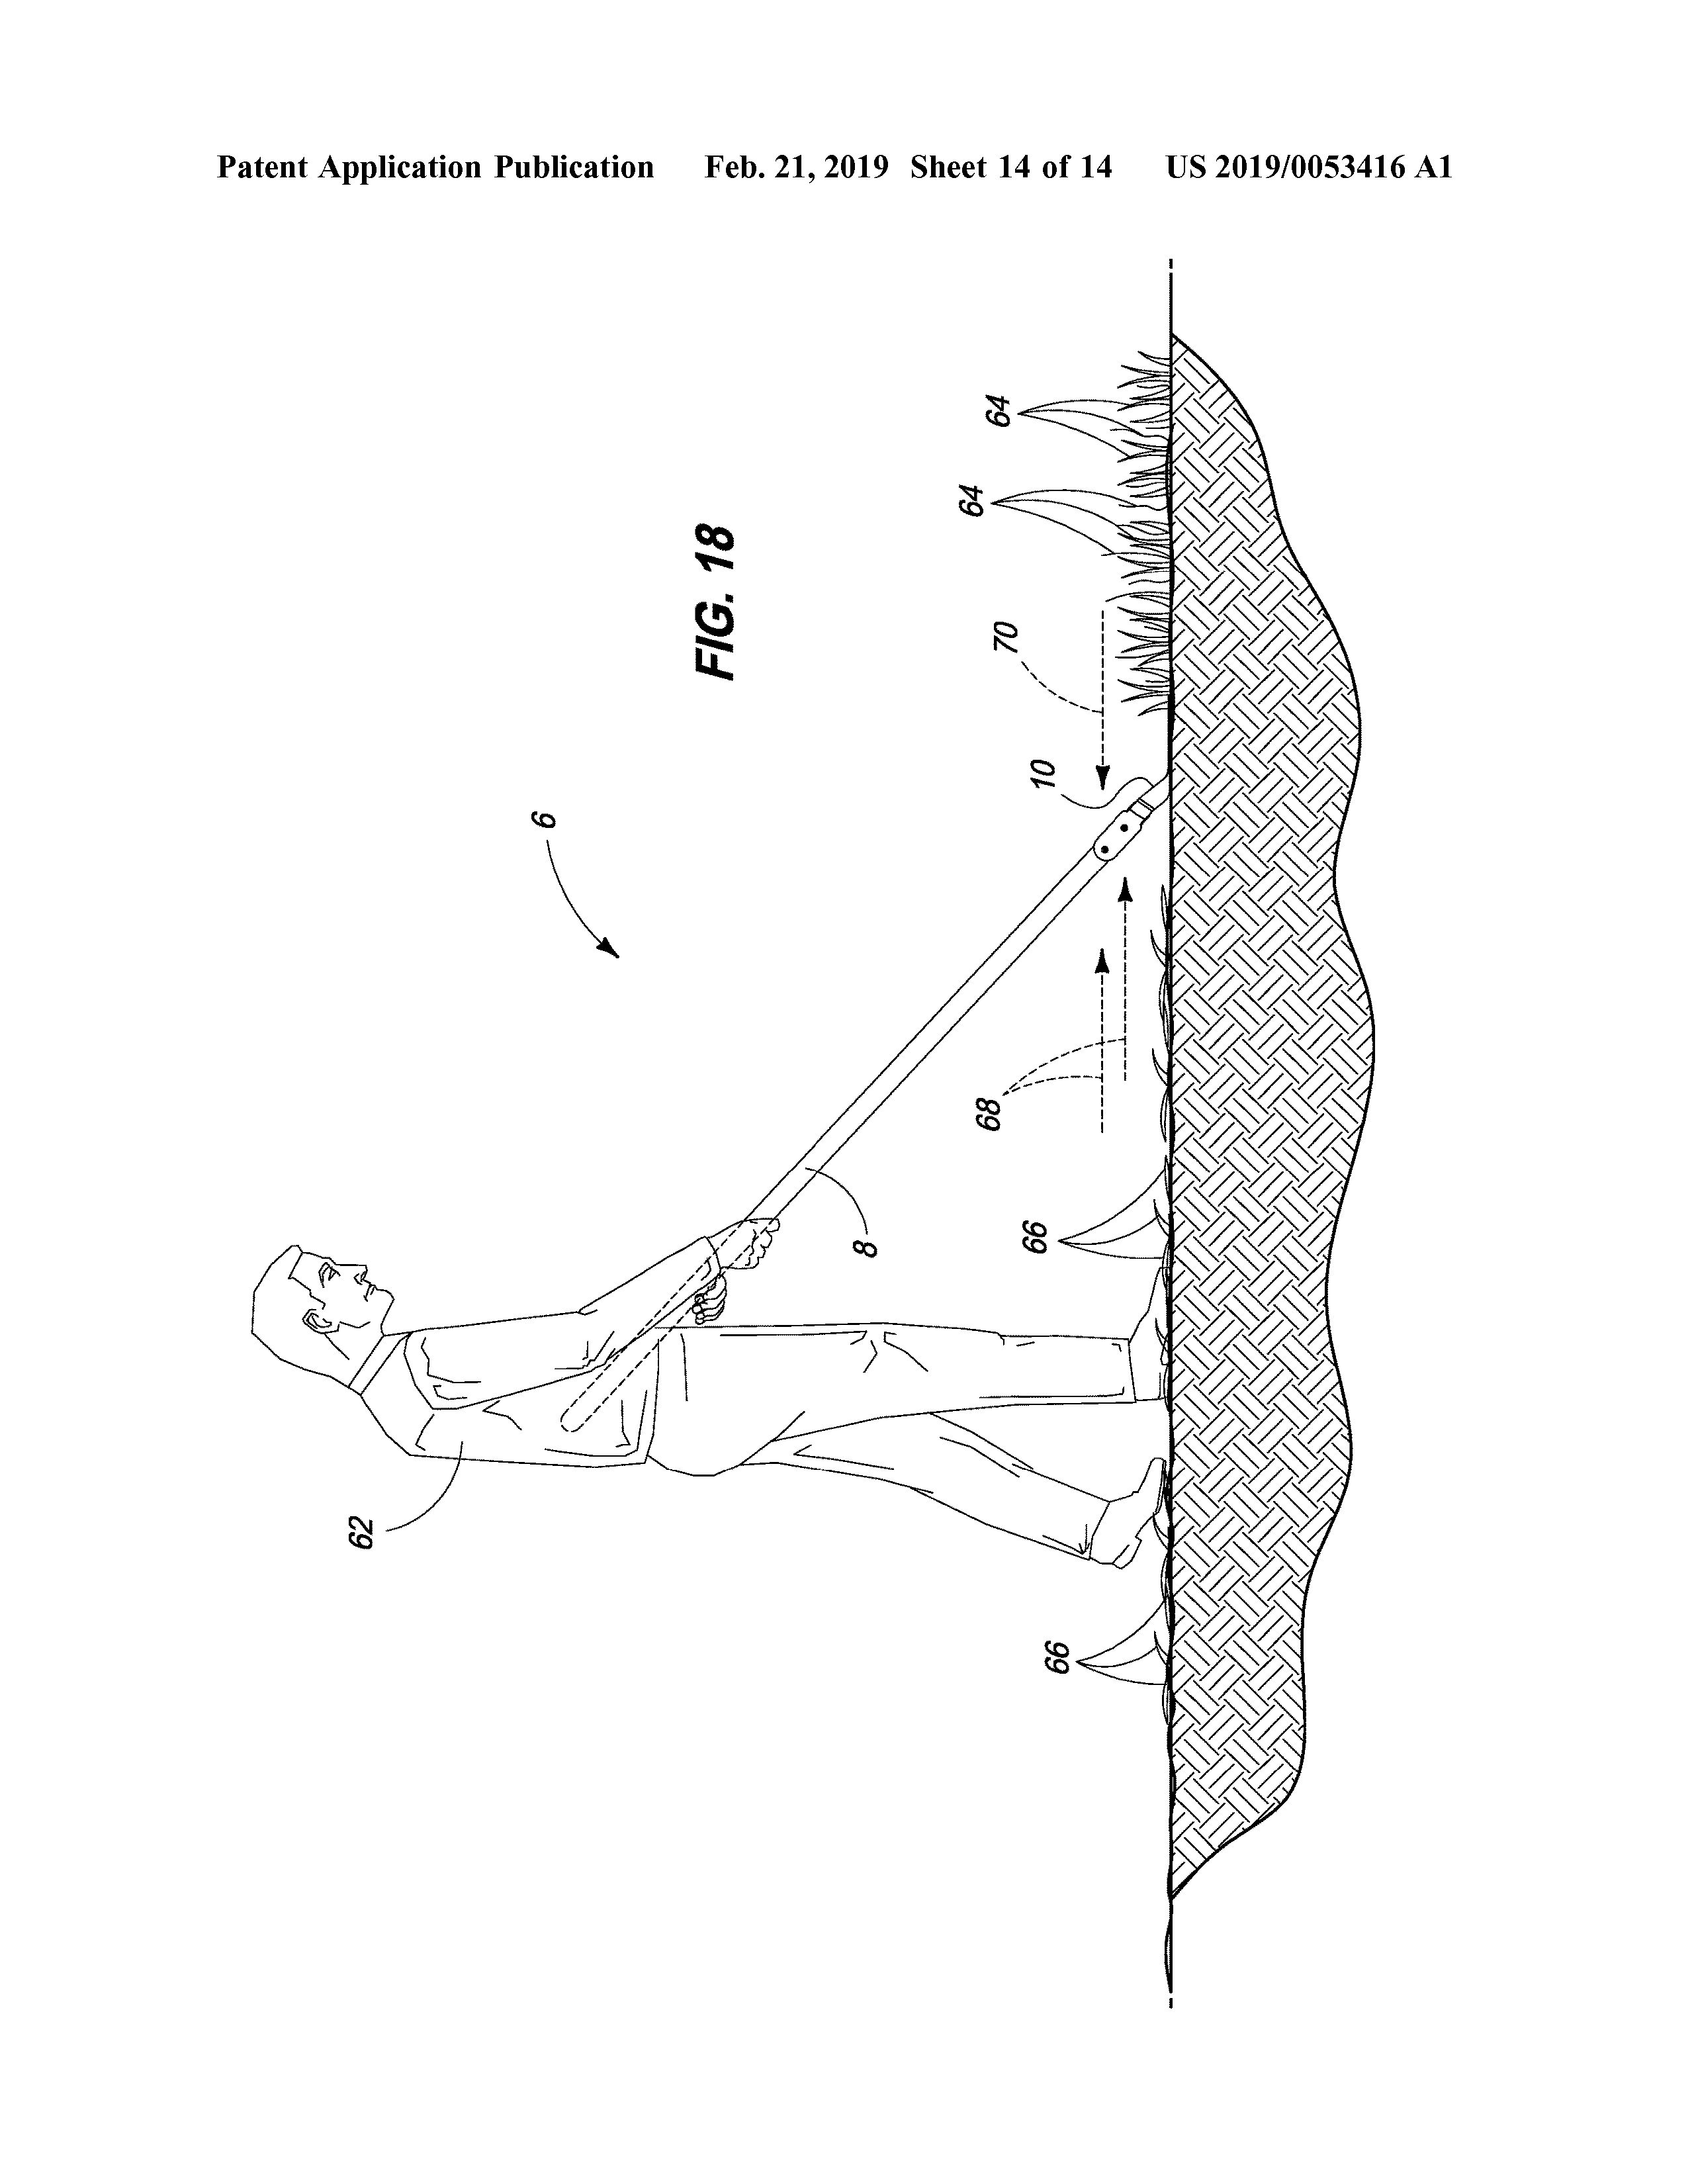10: (1014, 745, 1070, 805)
6: (517, 789, 572, 847)
62: (328, 1494, 392, 1576)
64: (943, 472, 999, 530), (975, 381, 1030, 441)
66: (1010, 1209, 1067, 1269), (1030, 1626, 1086, 1684)
68: (962, 1087, 1017, 1145)
70: (978, 608, 1033, 667)
8: (835, 1221, 891, 1280)
FIG. 18: (675, 480, 750, 734)
